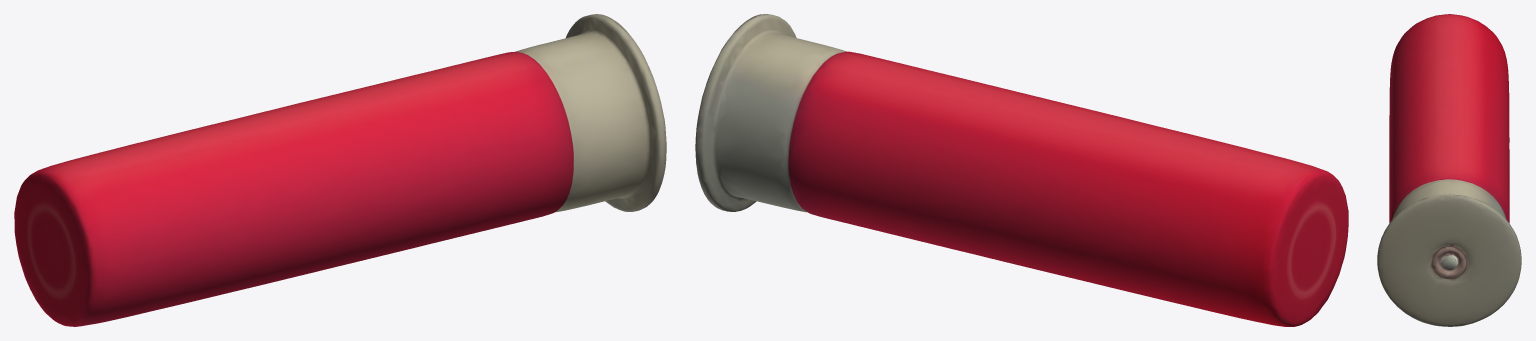
Rendered from the_negotiator_V3_bullet.glb.
3 renders of one model, left to right at view 1: azimuth 30°, elevation 25°; view 2: azimuth 150°, elevation 25°; view 3: azimuth 270°, elevation 25°, orthographic. The views are drawn at different scales.
Visible parts, largest first — view 1: Mesh1.0; view 2: Mesh1.0; view 3: Mesh1.0.
Part boxes in pixels (x1,y1,x2,y2): Mesh1.0: [14, 14, 666, 326]; Mesh1.0: [695, 14, 1348, 326]; Mesh1.0: [1377, 14, 1521, 326].
Bounding box in the file's own units: 1.91 × 0.5865 × 0.5863.
Materials: 1 (1 with a texture image).
